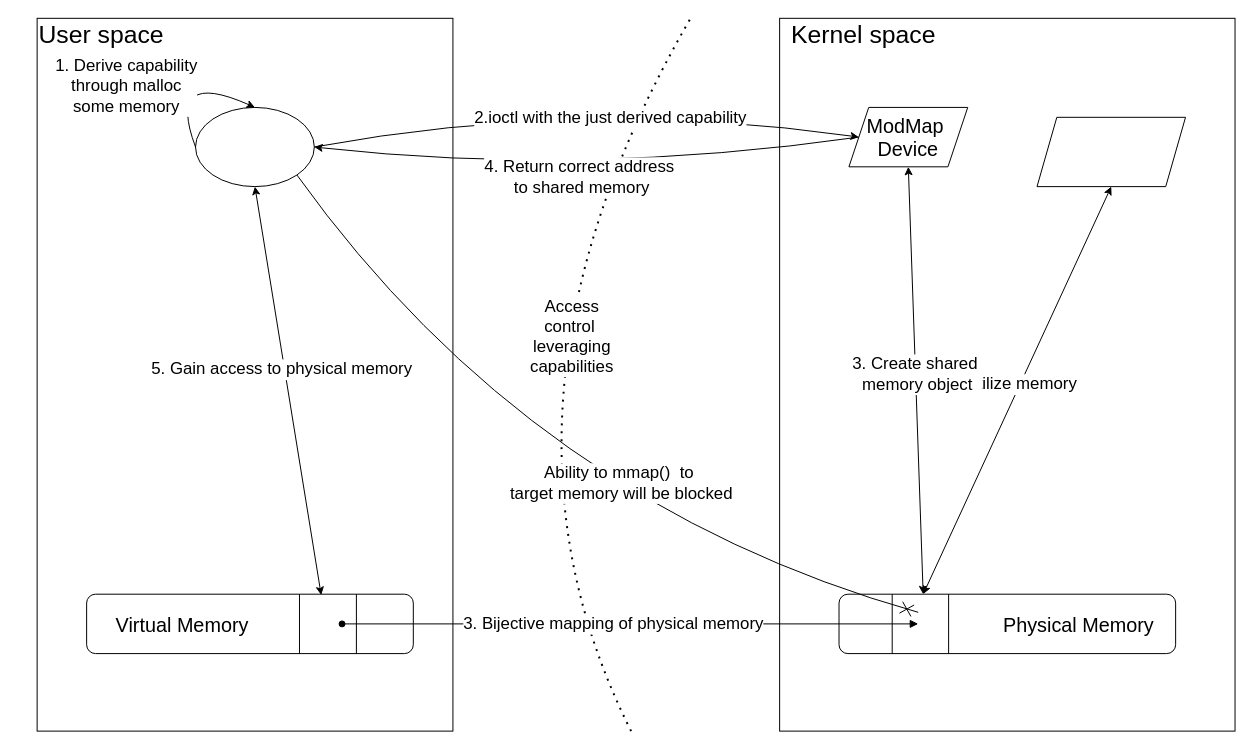
Some shapes in this 1252 by 748 pixel diagram are drawn without their labels. The centre of each missing label's shape, as x and y in pixels:
"Client program" belongs at point (254, 146).
"E1000 driver" belongs at point (1111, 151).
